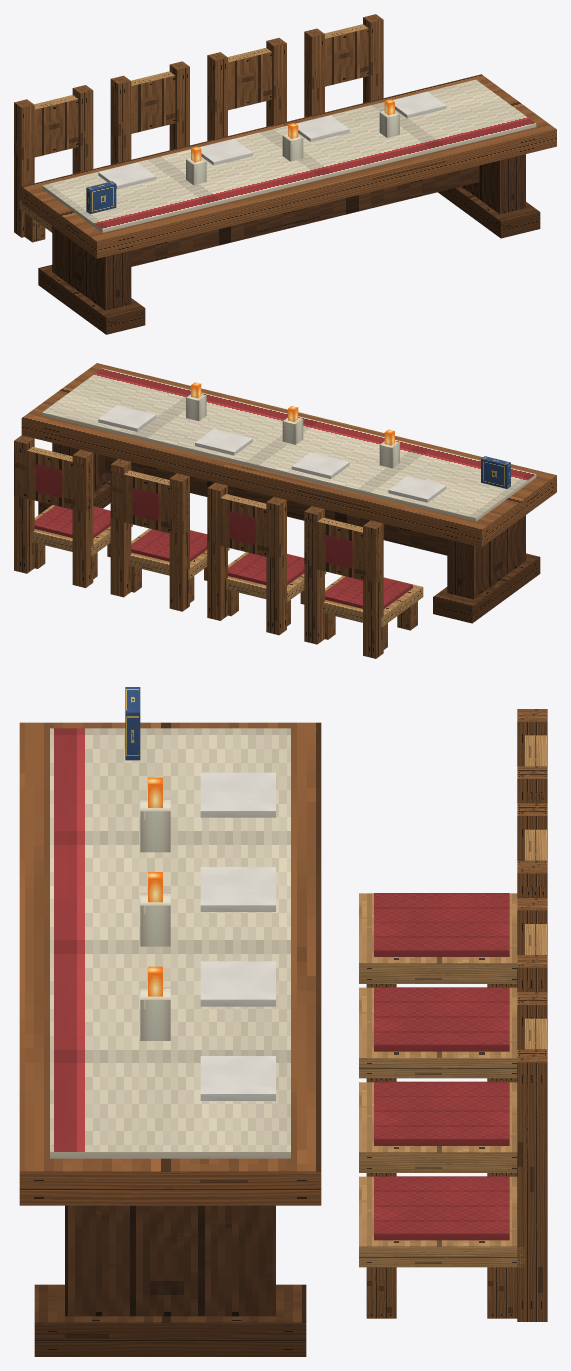
File: table_group_4.glb
3 renders of one model, top to bottom at view 1: azimuth 30°, elevation 25°; view 2: azimuth 150°, elevation 25°; view 3: azimuth 270°, elevation 25°, orthographic. The views are drawn at different scales.
Visible parts, largest first — view 1: root; view 2: root; view 3: root.
Boxes of the visible parts, box(x1,y1,x2,y2) form: root: box(14, 14, 556, 334); root: box(14, 363, 556, 658); root: box(19, 687, 547, 1356).
Bounding box in the file's own units: 190 × 53.33 × 95.18.
2 materials, 2 textured.
